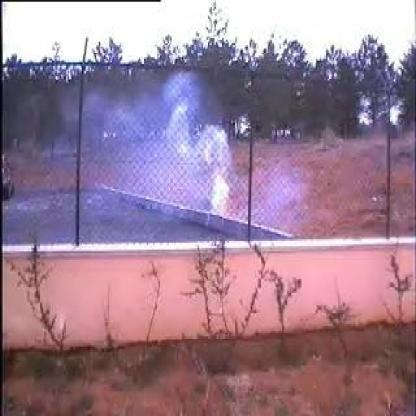-: (84, 75, 250, 223)
